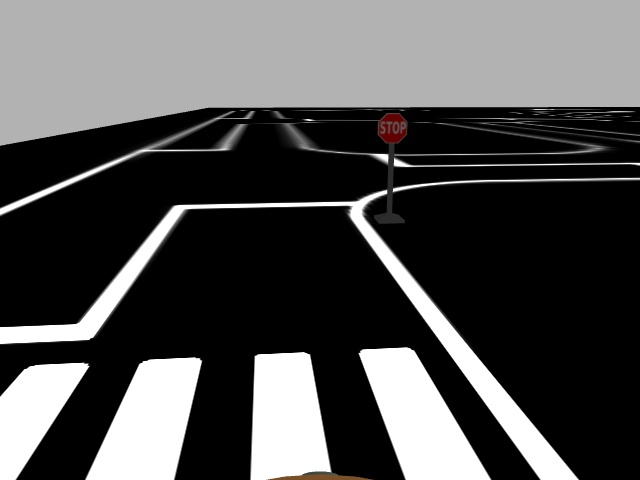stop: (375, 112, 411, 145)
